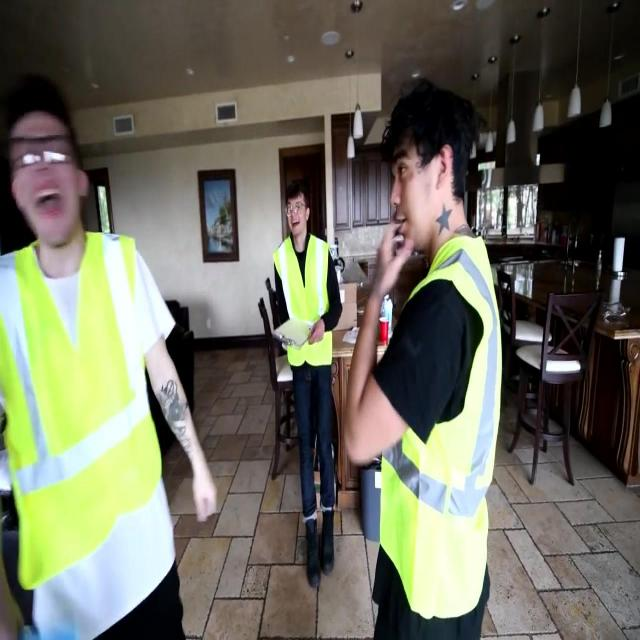Reflective-Jacket: (0, 231, 174, 606), (372, 228, 508, 626), (270, 230, 338, 372)
